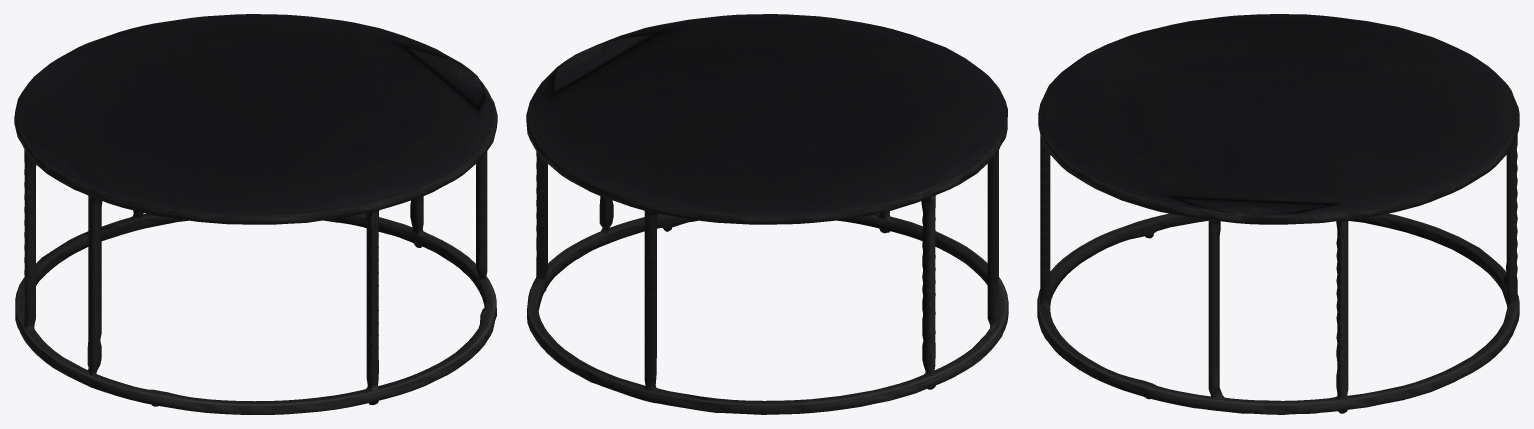
The model's file is black_metal_coffee_table_16inchestall_0428030528_texture.glb.
3 renders of one model, left to right at view 1: azimuth 30°, elevation 25°; view 2: azimuth 150°, elevation 25°; view 3: azimuth 270°, elevation 25°, orthographic.
Visible parts, largest first — view 1: Mesh_0.001; view 2: Mesh_0.001; view 3: Mesh_0.001.
Part boxes in pixels (bbox=[...]): Mesh_0.001: bbox=[14, 14, 497, 414]; Mesh_0.001: bbox=[526, 14, 1008, 414]; Mesh_0.001: bbox=[1037, 14, 1519, 414].
Bounding box in the file's own units: 0.8701 × 0.4064 × 0.8719.
1 material, 1 textured.
